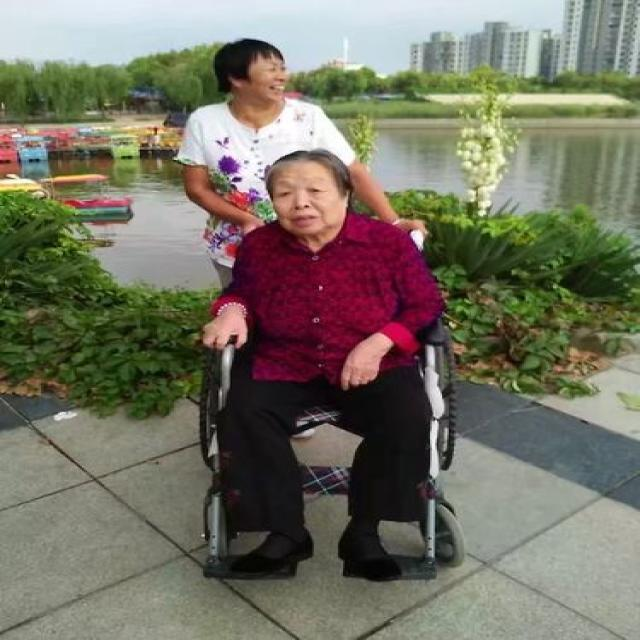wheelchairs: (179, 306, 477, 587)
